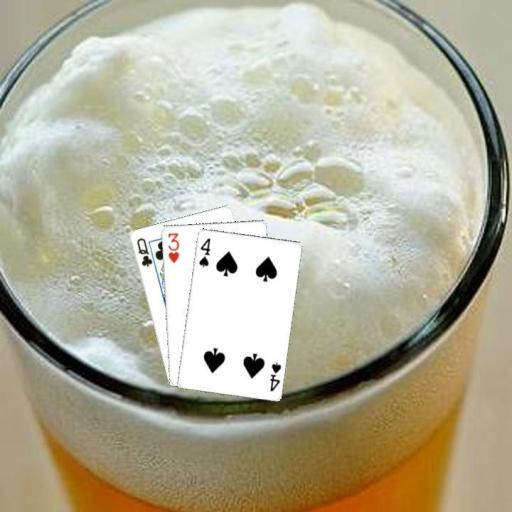3H: (165, 230, 181, 264)
4S: (195, 235, 212, 268), (267, 359, 282, 393)
QC: (133, 235, 154, 268)
